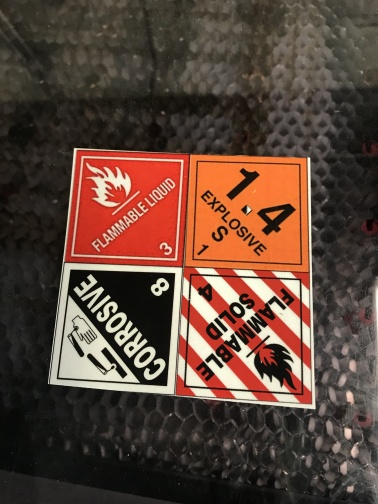Corrosive: (51, 263, 181, 395)
Explosive: (189, 154, 312, 271)
FlammableLiquid: (64, 150, 189, 265)
FlammableSolid: (175, 268, 316, 404)
